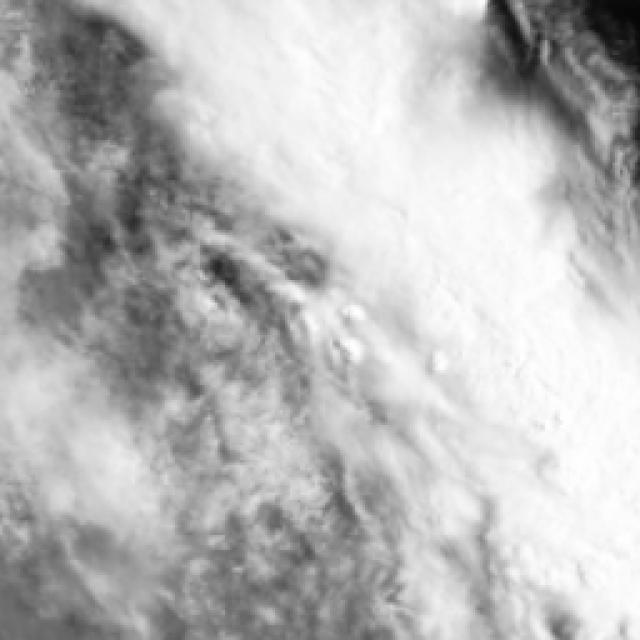CB: (200, 2, 413, 149), (466, 266, 614, 464), (508, 320, 630, 552), (317, 135, 500, 247)
